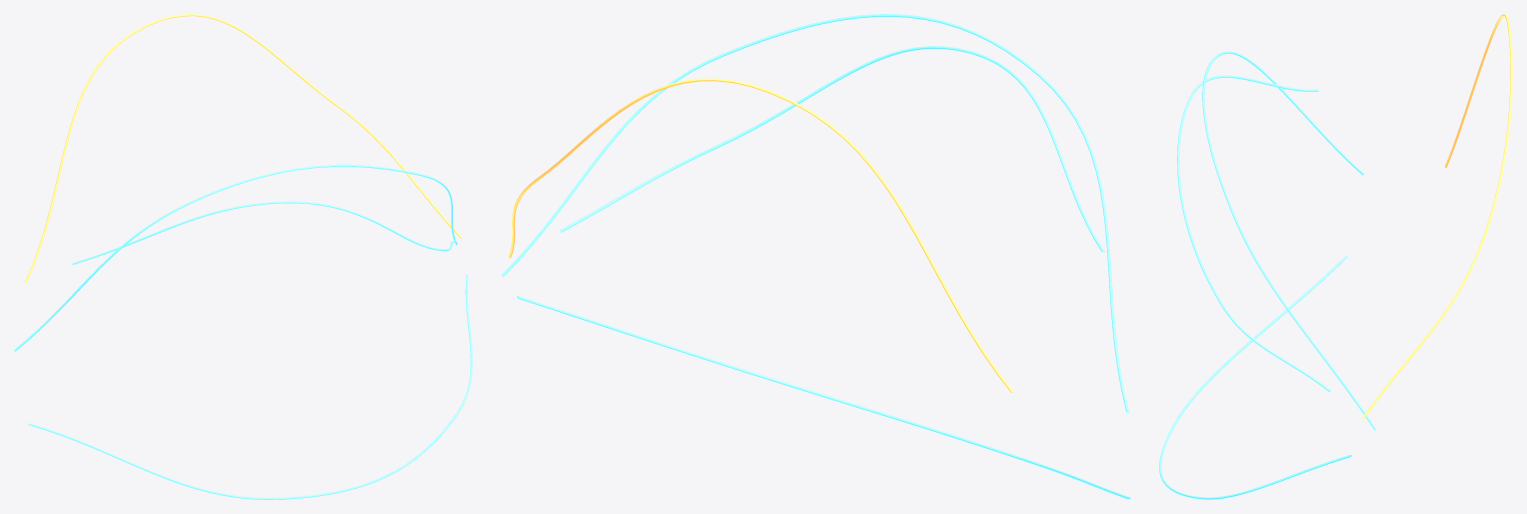
File: jmpseat-route-guides.glb
3 views of the same model, side by side, from view 1: azimuth 30°, elevation 25°; view 2: azimuth 150°, elevation 25°; view 3: azimuth 270°, elevation 25° (orthographic). The views are drawn at different scales.
Visible parts, largest first — view 1: route_guide_amber_north, route_guide_soft_south, route_guide_blue_atlantic, route_guide_blue_upper; view 2: route_guide_blue_atlantic, route_guide_amber_north, route_guide_blue_upper, route_guide_soft_south; view 3: route_guide_amber_north, route_guide_blue_atlantic, route_guide_soft_south, route_guide_blue_upper.
Boxes of the visible parts, x1,y1,x2,y2 form: route_guide_amber_north: [25, 14, 462, 283]; route_guide_soft_south: [28, 274, 472, 499]; route_guide_blue_atlantic: [14, 164, 457, 351]; route_guide_blue_upper: [72, 201, 455, 264]; route_guide_blue_atlantic: [501, 14, 1128, 412]; route_guide_amber_north: [508, 78, 1013, 392]; route_guide_blue_upper: [560, 46, 1104, 252]; route_guide_soft_south: [516, 295, 1130, 499]; route_guide_amber_north: [1362, 14, 1512, 418]; route_guide_blue_atlantic: [1202, 51, 1376, 430]; route_guide_soft_south: [1159, 255, 1351, 499]; route_guide_blue_upper: [1177, 75, 1330, 392].
Size of the model in its own units: 2.85 by 2.23 by 1.71.
